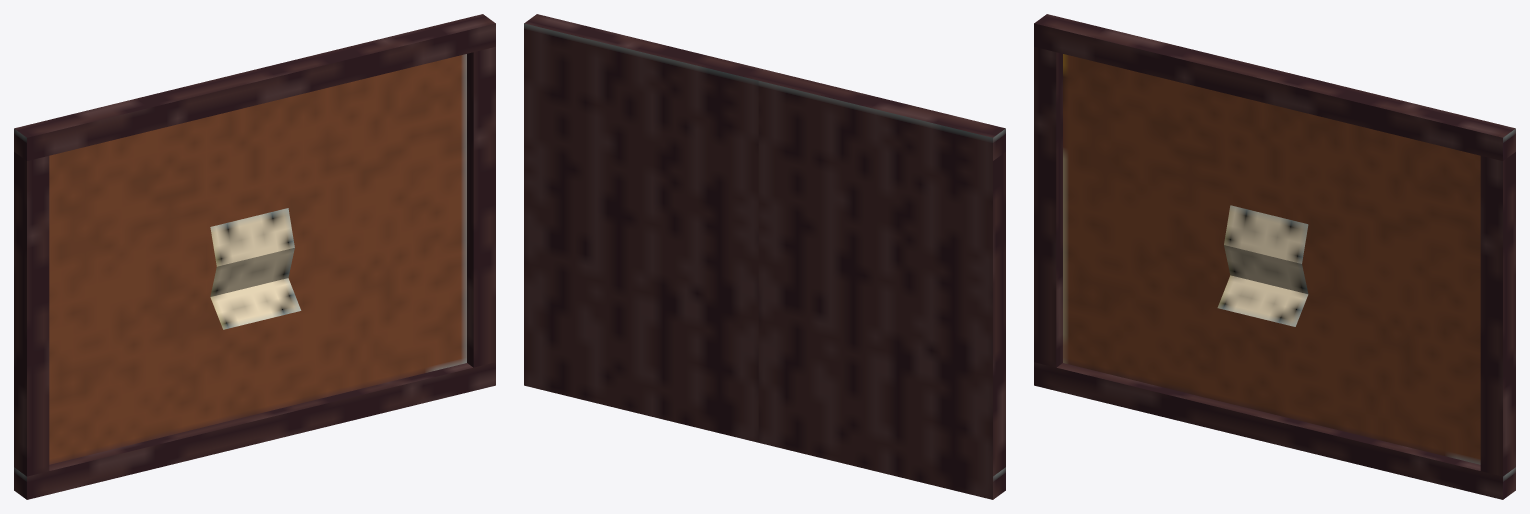
Rendered from QuestBoard.fbx.
The picture shows the model from 3 angles, left to right: view 1: azimuth 30°, elevation 25°; view 2: azimuth 150°, elevation 25°; view 3: azimuth 330°, elevation 25°; orthographic projection.
Visible parts, largest first — view 1: Board, Paper; view 2: Board; view 3: Board, Paper.
Part boxes in pixels (<box>): Board: <box>14,14,495,499</box>; Paper: <box>210,208,301,329</box>; Board: <box>524,14,1005,499</box>; Board: <box>1034,14,1515,499</box>; Paper: <box>1217,205,1308,326</box>.
Bounding box in the file's own units: 2.62 × 0.1875 × 1.94.
